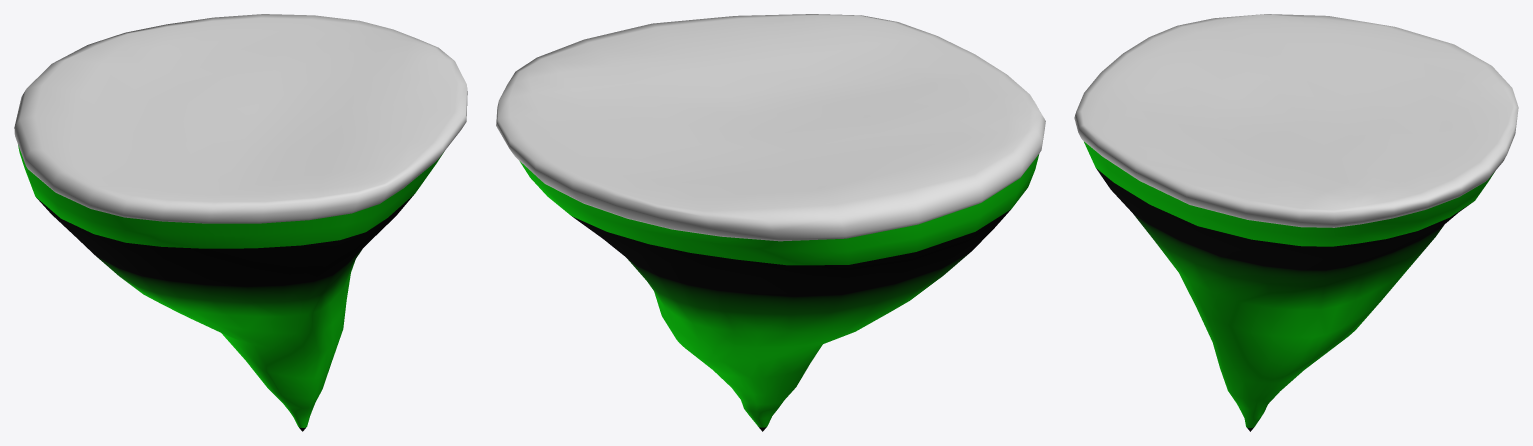
File: Grave island v2.fbx
The picture shows the model from 3 angles, left to right: view 1: azimuth 30°, elevation 25°; view 2: azimuth 150°, elevation 25°; view 3: azimuth 270°, elevation 25°; orthographic projection. The views are drawn at different scales.
Visible parts, largest first — view 1: polySurface409, polySurface410; view 2: polySurface409, polySurface410; view 3: polySurface409, polySurface410.
Boxes of the visible parts, left/top/right/bottom form: polySurface409: left=14, top=14, right=467, bottom=223; polySurface410: left=18, top=145, right=444, bottom=431; polySurface409: left=496, top=14, right=1045, bottom=241; polySurface410: left=519, top=154, right=1039, bottom=431; polySurface409: left=1074, top=14, right=1518, bottom=227; polySurface410: left=1084, top=141, right=1494, bottom=431.
Size of the model in its own units: 74.92 by 53.74 by 69.77.
